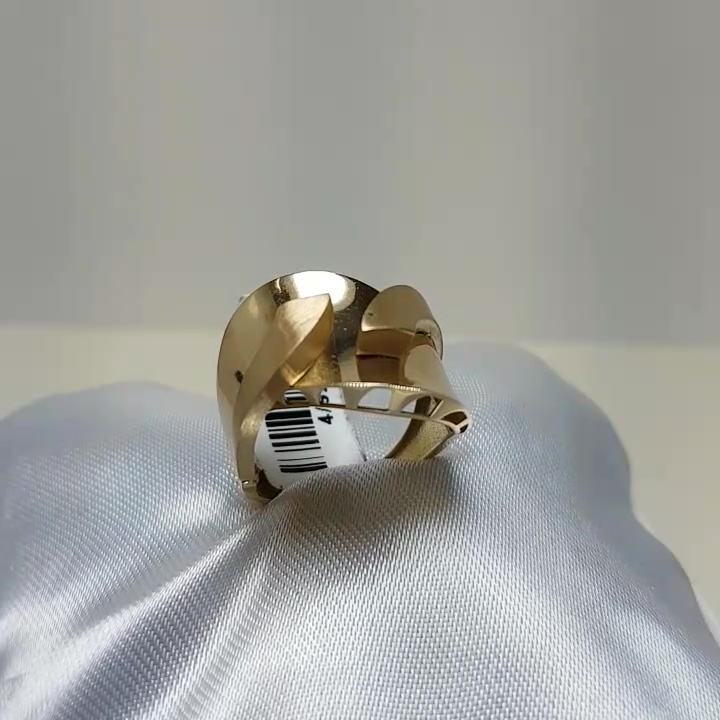Ring 4: (202, 250, 484, 536)
